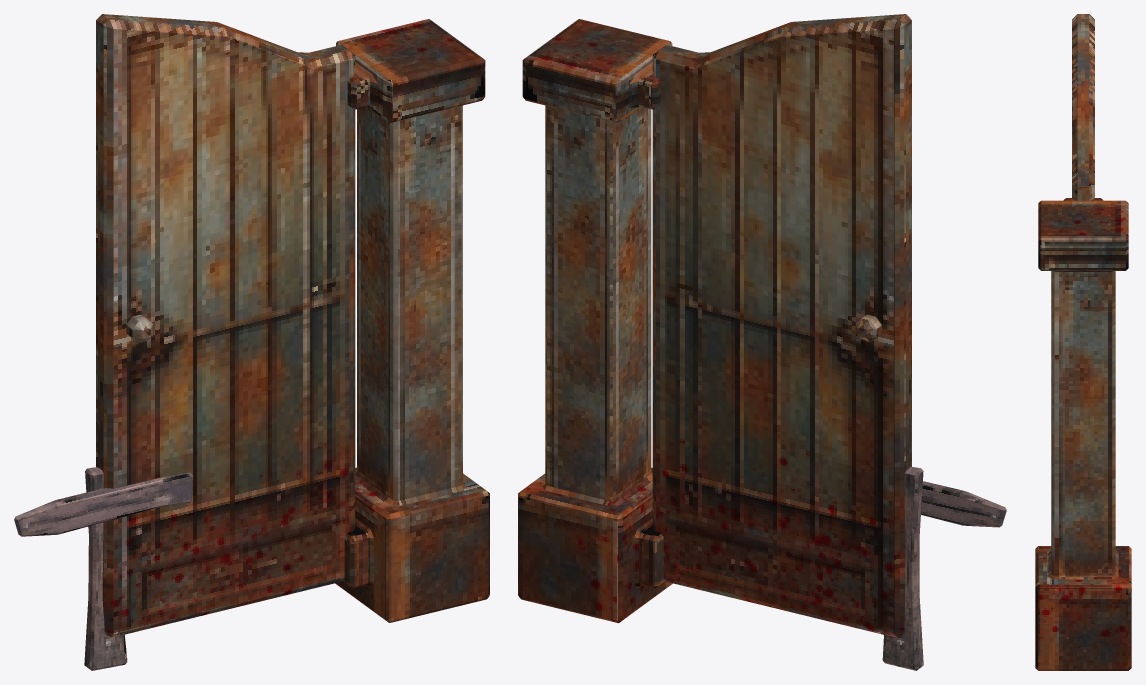
Rendered from gateSigns_atlas.glb.
3 renders of one model, left to right at view 1: azimuth 30°, elevation 25°; view 2: azimuth 150°, elevation 25°; view 3: azimuth 270°, elevation 25°, orthographic. The views are drawn at different scales.
Parts seen in each view (by area): view 1: gate, gate tolppa, wood_sign; view 2: gate, gate tolppa, wood_sign; view 3: gate tolppa, gate.
Part boxes in pixels (x1,y1,x2,y2): gate: [96, 14, 355, 637]; gate tolppa: [335, 19, 489, 622]; wood_sign: [14, 467, 192, 670]; gate: [652, 14, 911, 638]; gate tolppa: [518, 19, 672, 623]; wood_sign: [882, 467, 1006, 670]; gate tolppa: [1035, 198, 1131, 670]; gate: [1072, 14, 1094, 200].
Size of the model in its own units: 2.2 by 3 by 0.5024.
1 material, 1 textured.
